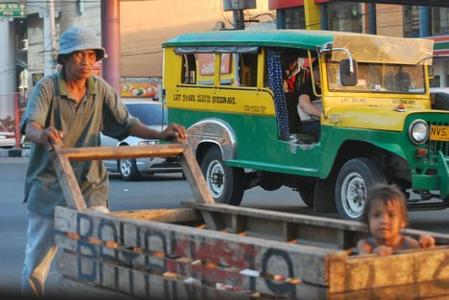person: (18, 28, 190, 294)
